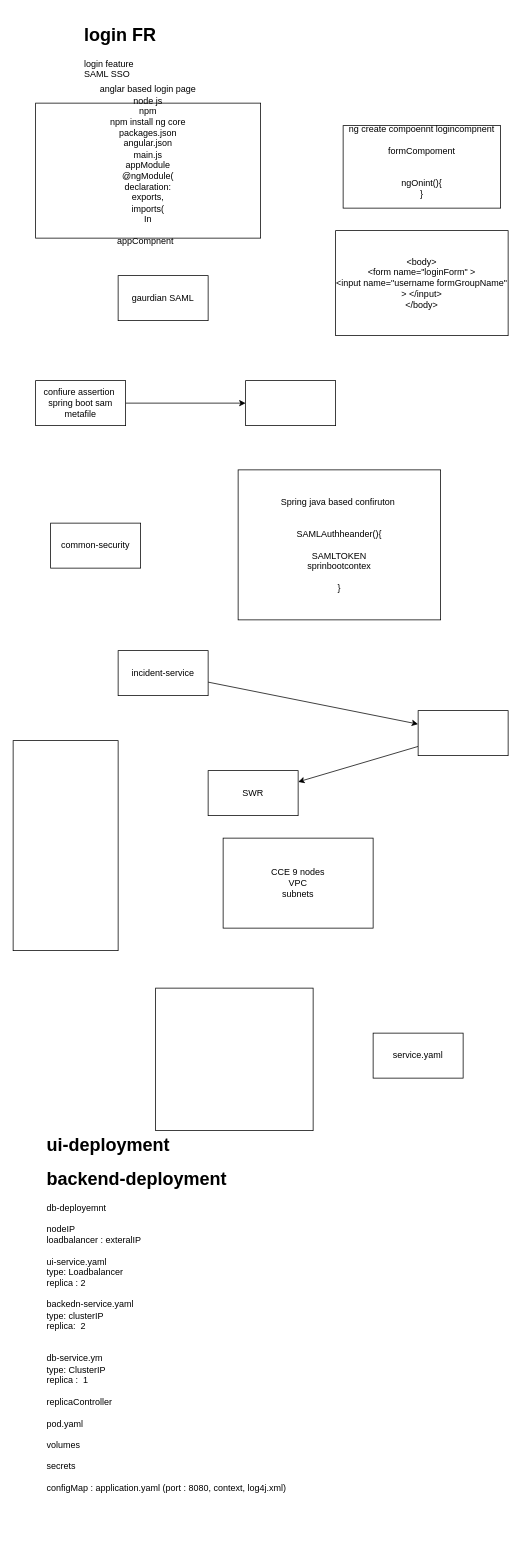
This 521x1548 diagram has some shape labels left out. Here are the shapes that lost their labels. From the top down, the centre of each, then its label:
the point at 290,403: gateway
the point at 462,733: deployment
the point at 65,845: kustomize base.yaml service.yaml /prod /deployment.yaml /qa/deployment.yml
the point at 234,1059: ui-deployment.yaml name=inciden-serve resource = -XMS512MB
